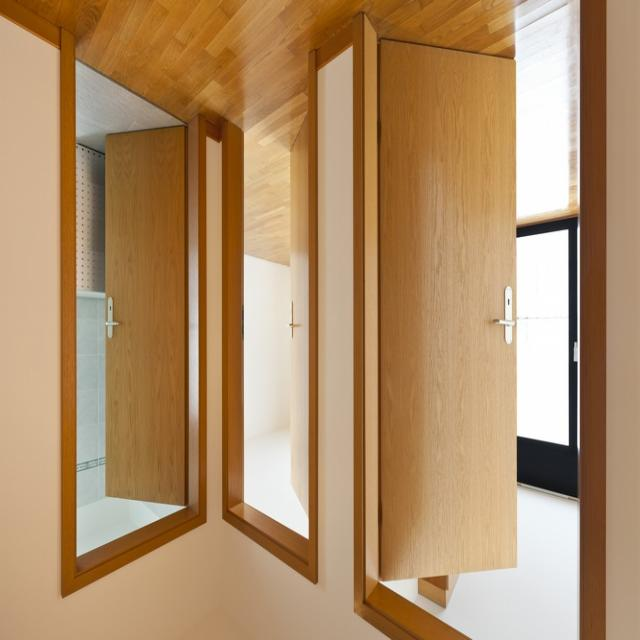open: (368, 8, 597, 586), (62, 95, 192, 554), (223, 68, 320, 512)
